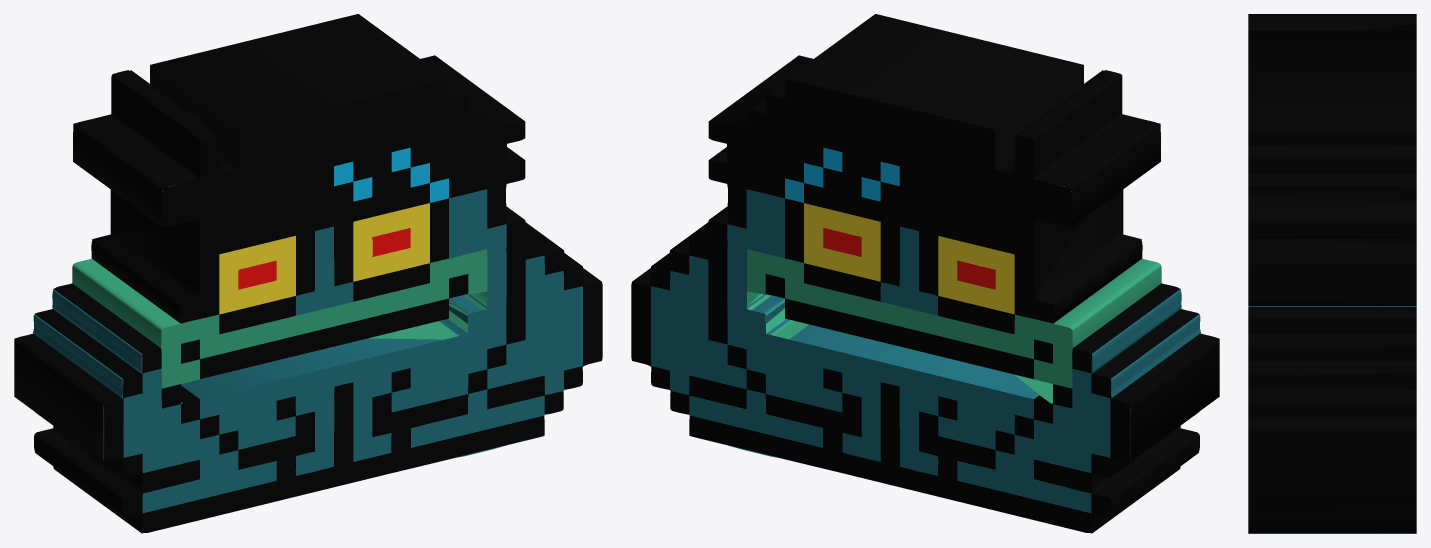
File: Toadz_1880.glb
3 views of the same model, side by side, from view 1: azimuth 30°, elevation 25°; view 2: azimuth 150°, elevation 25°; view 3: azimuth 270°, elevation 25° (orthographic). The views are drawn at different scales.
Visible parts, largest first — view 1: Curve; view 2: Curve; view 3: Curve.
Part boxes in pixels (<box>): Curve: <box>14,14,602,533</box>; Curve: <box>631,14,1219,533</box>; Curve: <box>1248,14,1416,533</box>.
Bounding box in the file's own units: 3.25 × 2.37 × 1.
